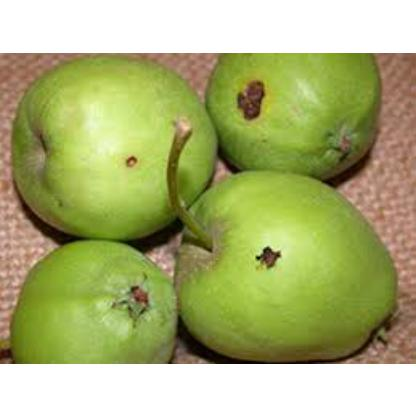apple: (176, 164, 394, 350), (14, 70, 214, 234), (206, 52, 370, 168), (18, 244, 168, 362)
